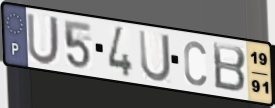4: (106, 25, 135, 80)
5: (62, 19, 94, 71)
B: (211, 41, 248, 95)
C: (182, 38, 208, 88)
U: (137, 28, 173, 84), (25, 11, 61, 67)
